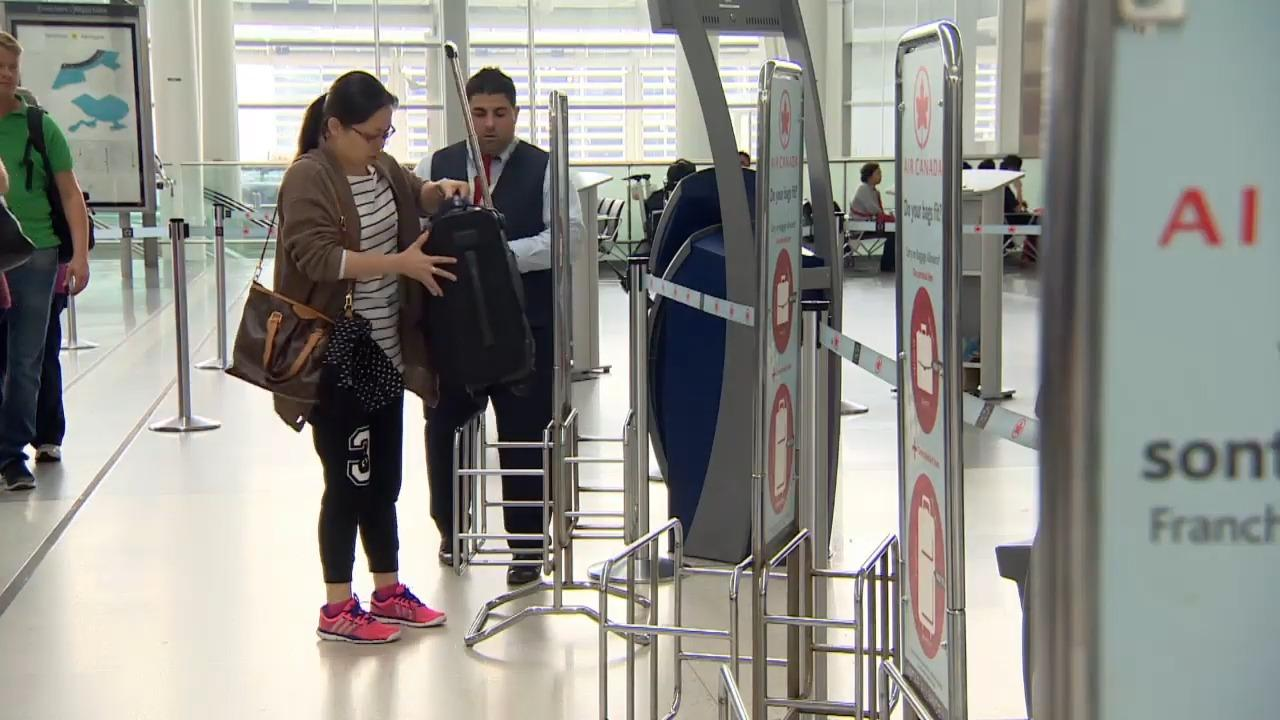luggage: (424, 202, 532, 398)
